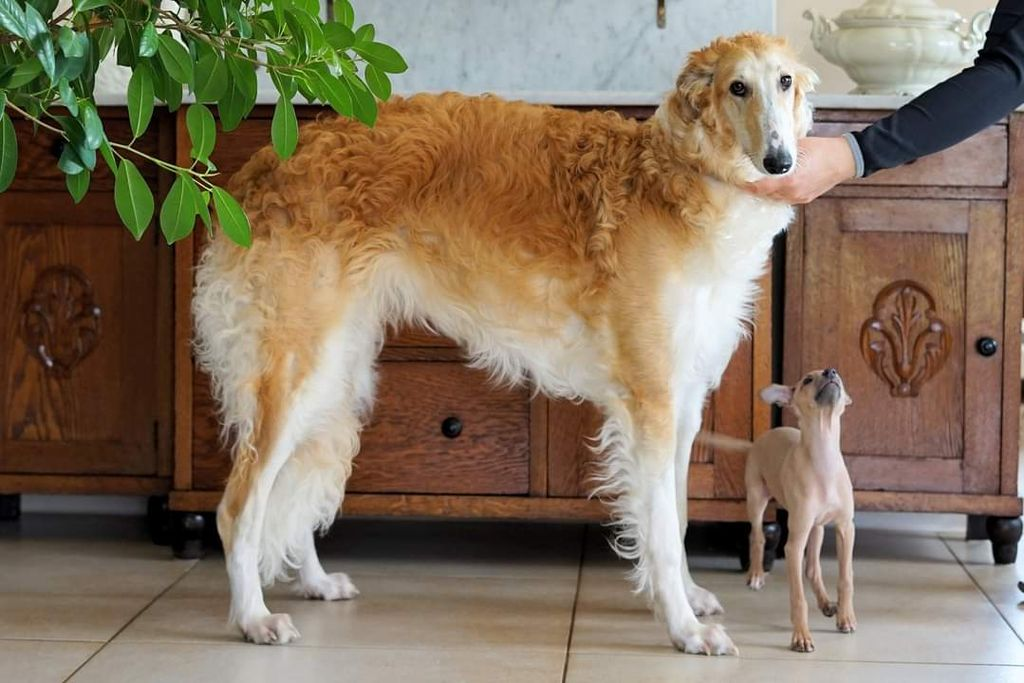borzoi: (214, 25, 794, 644)
